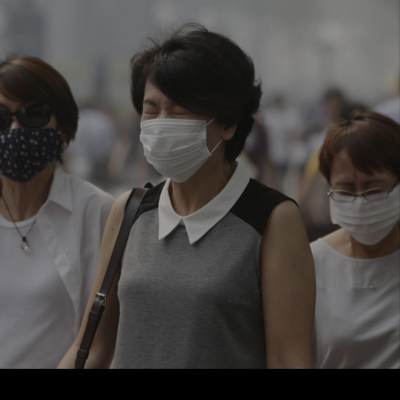with_mask: (138, 96, 223, 178), (330, 173, 399, 245), (0, 100, 58, 183)
